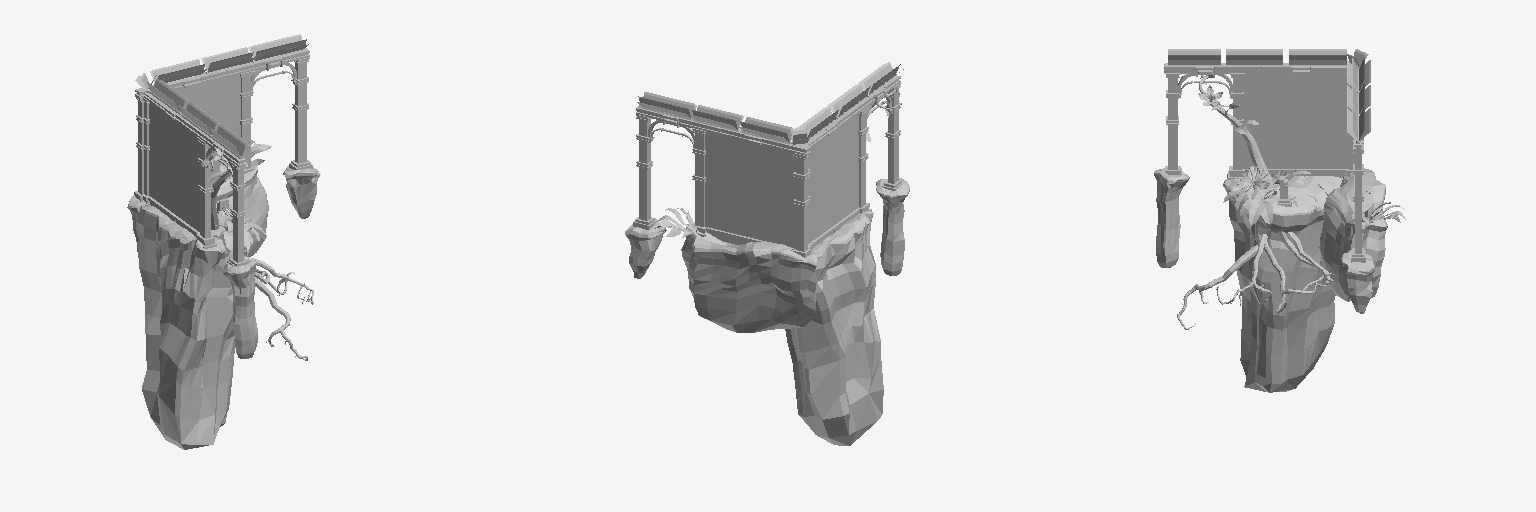
Rendered from spikesAngle.obj.
3 renders of one model, left to right at view 1: azimuth 30°, elevation 25°; view 2: azimuth 150°, elevation 25°; view 3: azimuth 270°, elevation 25°, orthographic.
Parts seen in each view (by area): view 1: spikesAngle PlatfprmsAndSpikes; view 2: spikesAngle PlatfprmsAndSpikes; view 3: spikesAngle PlatfprmsAndSpikes.
Boxes of the visible parts, x1,y1,x2,y2 form: spikesAngle PlatfprmsAndSpikes: [127, 34, 320, 449]; spikesAngle PlatfprmsAndSpikes: [625, 62, 909, 445]; spikesAngle PlatfprmsAndSpikes: [1154, 49, 1405, 392].
Bounding box in the file's own units: 30.49 × 49.04 × 33.12.